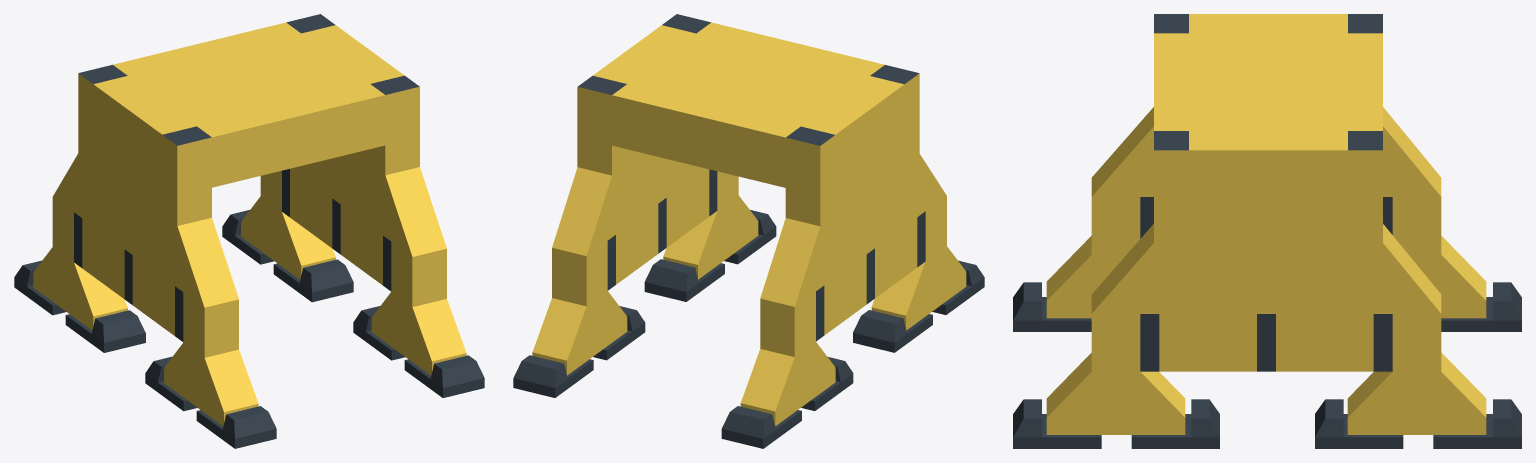
The model's file is crane_base.fbx.
3 renders of one model, left to right at view 1: azimuth 30°, elevation 25°; view 2: azimuth 150°, elevation 25°; view 3: azimuth 270°, elevation 25°, orthographic. The views are drawn at different scales.
Visible parts, largest first — view 1: crane_base; view 2: crane_base; view 3: crane_base.
Part boxes in pixels (box(x1,y1,x2,y2)): crane_base: box(14, 14, 484, 448); crane_base: box(513, 14, 984, 448); crane_base: box(1013, 14, 1521, 448).
Bounding box in the file's own units: 523 × 516 × 801.
Materials: 1 (1 with a texture image).
